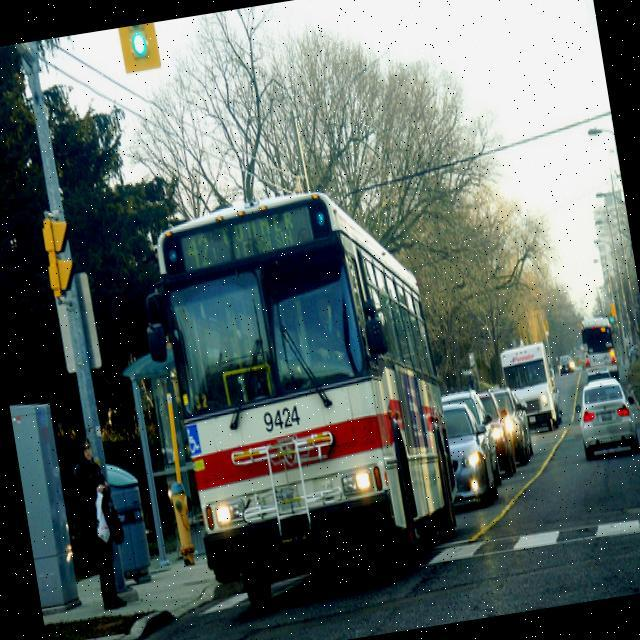fire_hydrant: (167, 478, 200, 566)
